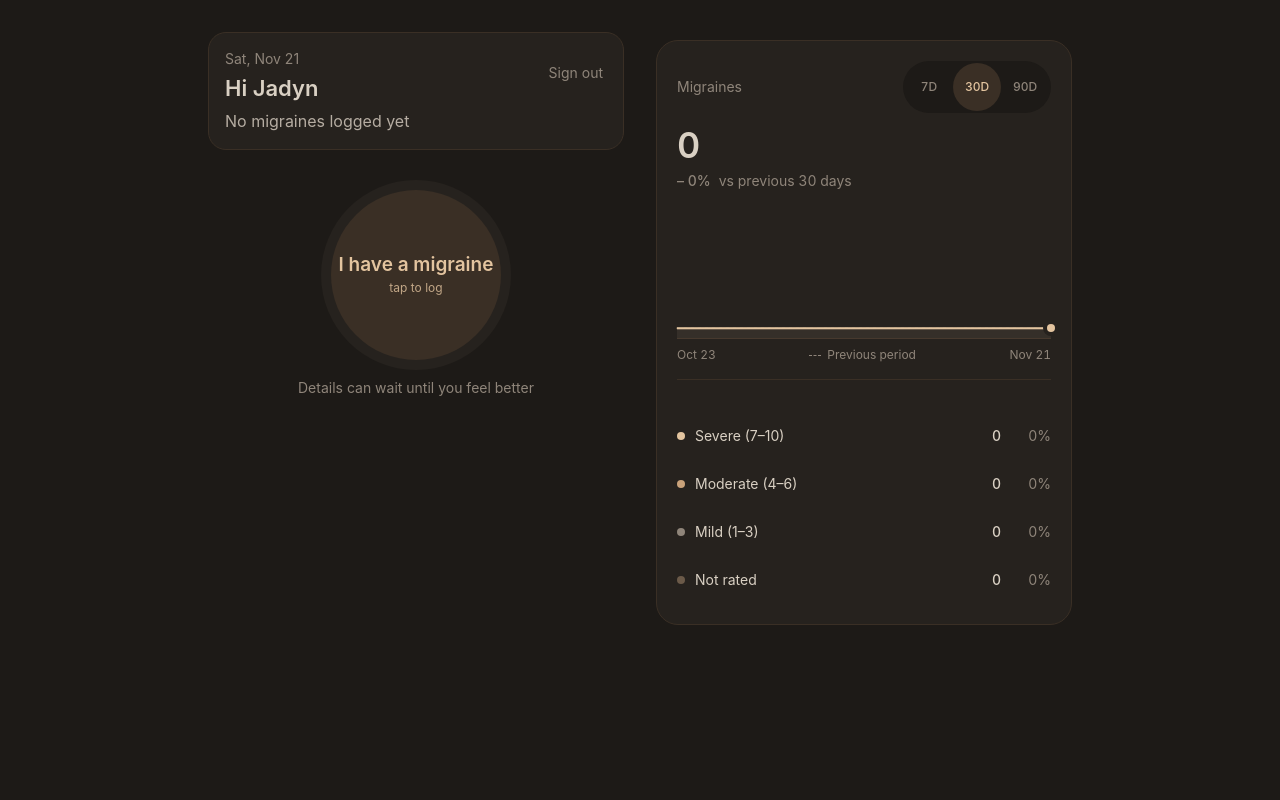
tap → pain sheet → pick 7 → upserted with pain
Later steps or results of the test are not shown.
Click the button "I have a migraine tap to log": x=416, y=274 [331,190,501,360]
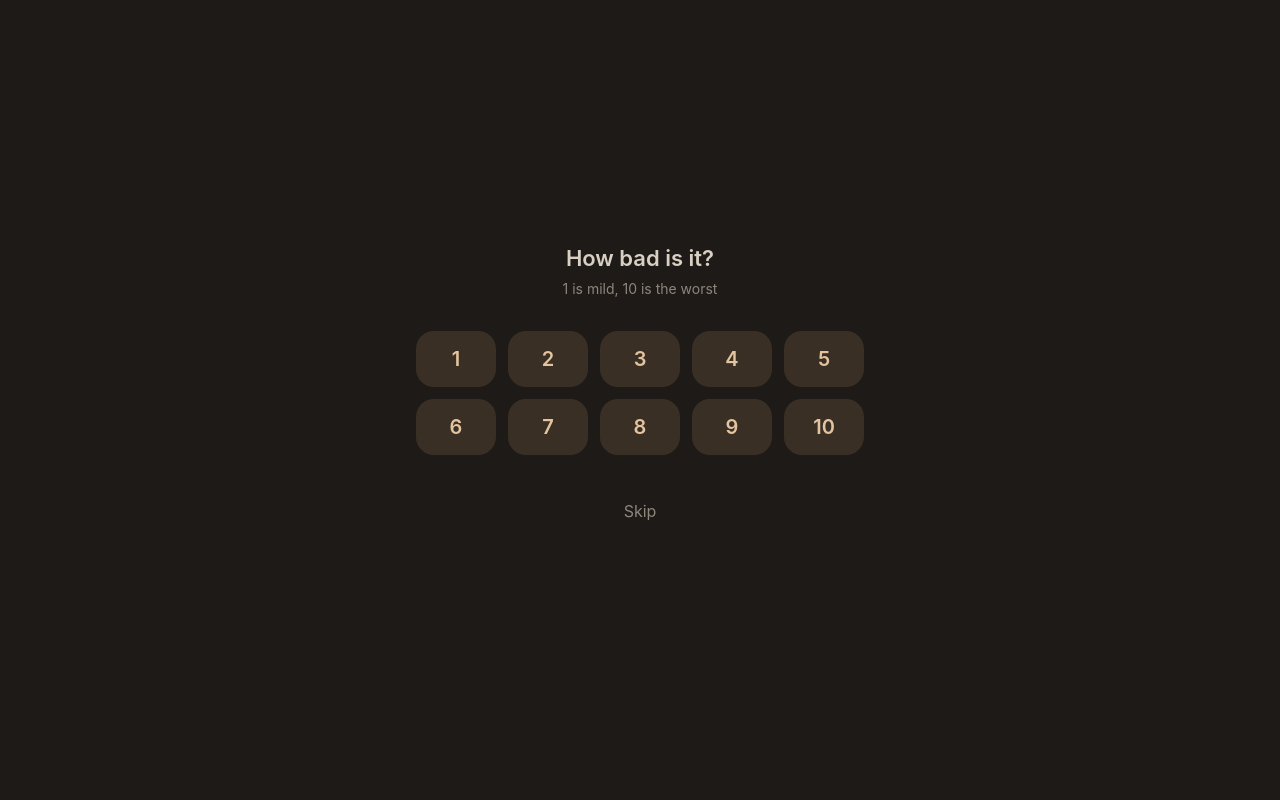
Check: the heading "How bad is it?" is shown, box [566,244,714,270]
